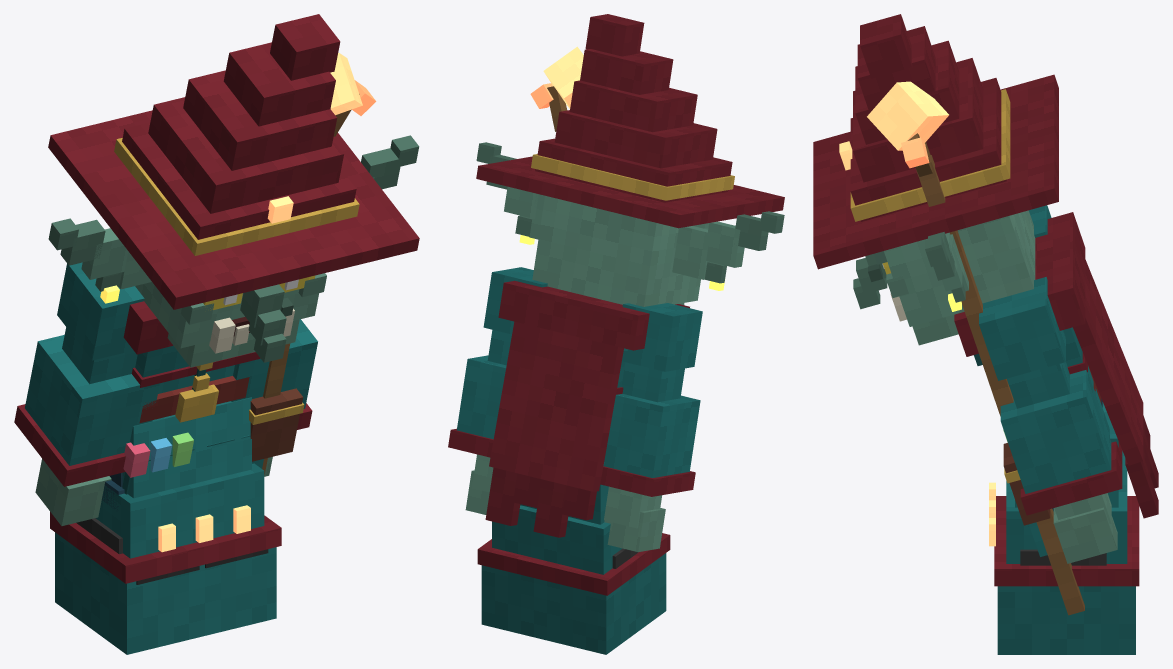
Rendered from goblin_mage.glb.
The picture shows the model from 3 angles, left to right: view 1: azimuth 30°, elevation 25°; view 2: azimuth 150°, elevation 25°; view 3: azimuth 270°, elevation 25°; orthographic projection. The views are drawn at different scales.
Parts seen in each view (by area): view 1: Head, Root, ArmR, Torso, ArmL, HandL, LegR; view 2: Head, Torso, Root, ArmR, ArmL, HandL; view 3: Head, ArmL, Root, Torso, HandL, LegL.
Part boxes in pixels (x1,y1,x2,y2): Head: (48,14,419,367); Root: (50,397,281,654); ArmR: (14,262,159,525); Torso: (122,301,304,494); ArmL: (231,319,317,476); HandL: (262,53,376,475); LegR: (76,472,199,584); Head: (476,14,784,306); Torso: (485,280,689,537); Root: (477,462,670,654); ArmR: (600,303,702,552); ArmL: (448,267,547,514); HandL: (530,46,583,131); Head: (813,14,1058,345); ArmL: (979,277,1122,563); Root: (989,402,1139,654); Torso: (954,212,1158,556); HandL: (867,81,1084,615); LegL: (1020,508,1106,565).
Bounding box in the file's own units: 1.09 × 1.87 × 0.949.
Materials: 45 (45 with a texture image).
